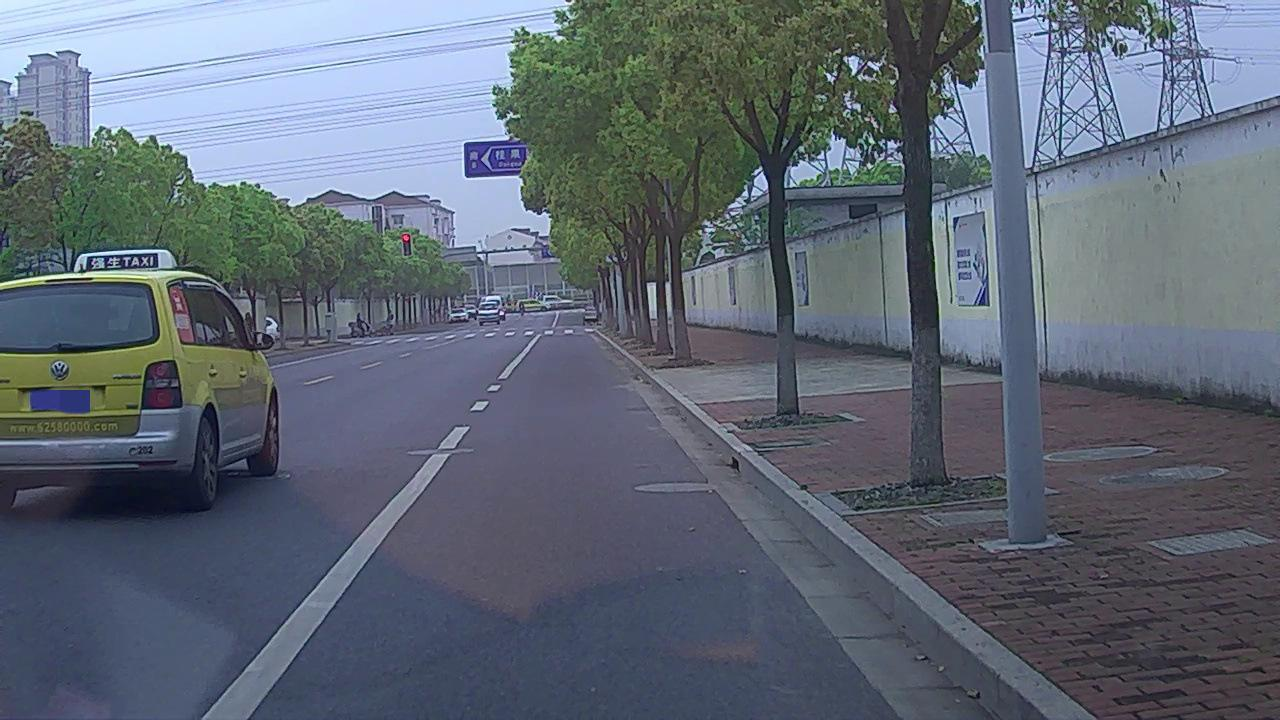traffic_light: (401, 235, 411, 256)
